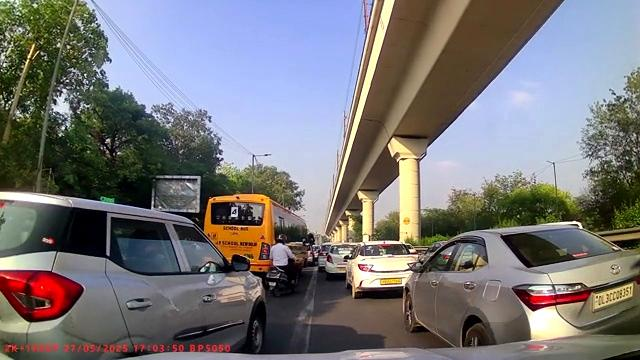motorcycle_with_helmet: (265, 233, 300, 296)
